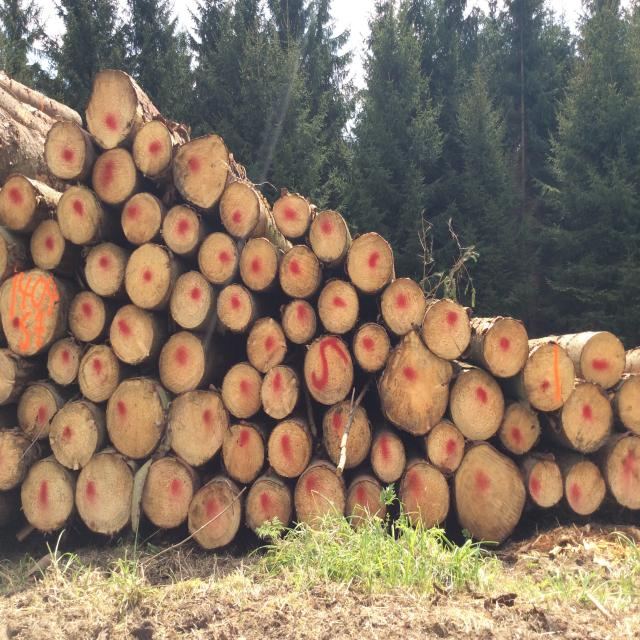wood-log: (380, 332, 455, 434), (456, 444, 527, 544), (0, 271, 60, 358), (108, 378, 171, 459), (168, 390, 230, 468), (75, 453, 134, 534), (175, 133, 235, 208), (84, 71, 138, 151), (18, 458, 74, 531), (524, 340, 582, 409), (446, 369, 503, 439), (560, 383, 614, 454), (143, 456, 195, 528), (190, 477, 243, 547), (399, 460, 452, 529), (51, 400, 104, 468), (293, 464, 346, 530), (302, 336, 352, 404), (322, 402, 372, 470), (420, 297, 472, 360), (126, 243, 174, 310), (346, 232, 394, 294), (157, 332, 204, 393), (57, 185, 104, 245), (247, 476, 293, 536), (111, 307, 157, 366), (481, 319, 526, 378), (577, 331, 624, 387), (605, 437, 640, 512), (378, 278, 424, 335), (267, 420, 312, 478), (220, 422, 265, 480), (90, 151, 136, 207), (170, 269, 212, 329), (78, 342, 120, 401), (219, 360, 262, 417), (47, 122, 90, 179), (278, 244, 321, 300), (18, 384, 60, 441), (237, 238, 279, 293), (566, 460, 607, 516), (220, 182, 261, 238), (317, 280, 359, 334), (134, 121, 174, 177), (122, 192, 164, 245), (500, 401, 541, 455), (198, 231, 240, 283), (0, 174, 39, 230), (86, 245, 127, 298), (246, 319, 287, 371), (309, 211, 350, 263), (428, 421, 468, 474), (262, 363, 300, 418), (0, 428, 33, 491), (270, 193, 314, 239), (344, 476, 384, 526), (69, 291, 106, 343), (161, 206, 201, 254), (352, 323, 390, 373), (30, 219, 67, 270), (218, 284, 256, 332), (372, 431, 407, 483), (528, 459, 564, 509), (48, 338, 82, 386), (617, 368, 640, 434), (283, 300, 317, 344), (0, 348, 18, 404), (0, 226, 9, 280)
